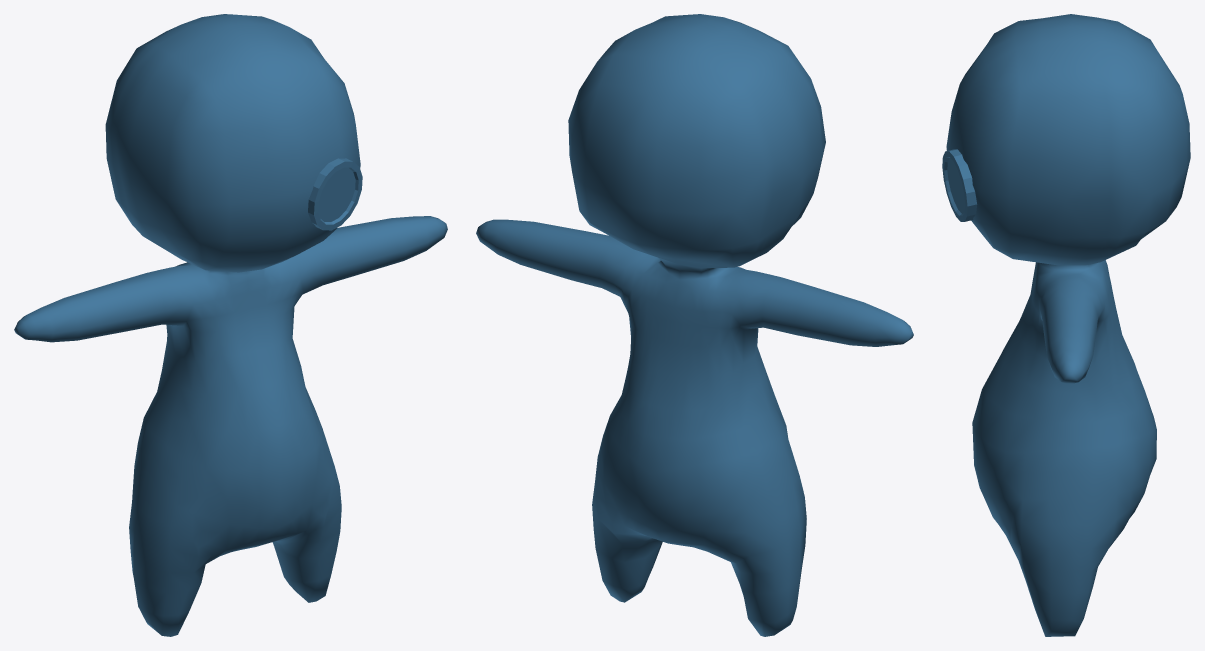
Rendered from Voodoo_new.fbx.
3 renders of one model, left to right at view 1: azimuth 30°, elevation 25°; view 2: azimuth 150°, elevation 25°; view 3: azimuth 270°, elevation 25°, orthographic. The views are drawn at different scales.
Visible parts, largest first — view 1: Voodoo; view 2: Voodoo; view 3: Voodoo.
Boxes of the visible parts, box(x1,y1,x2,y2) form: Voodoo: box(14, 14, 447, 636); Voodoo: box(476, 14, 913, 636); Voodoo: box(942, 14, 1190, 636).
Size of the model in its own units: 30.64 by 39.88 by 15.64.
